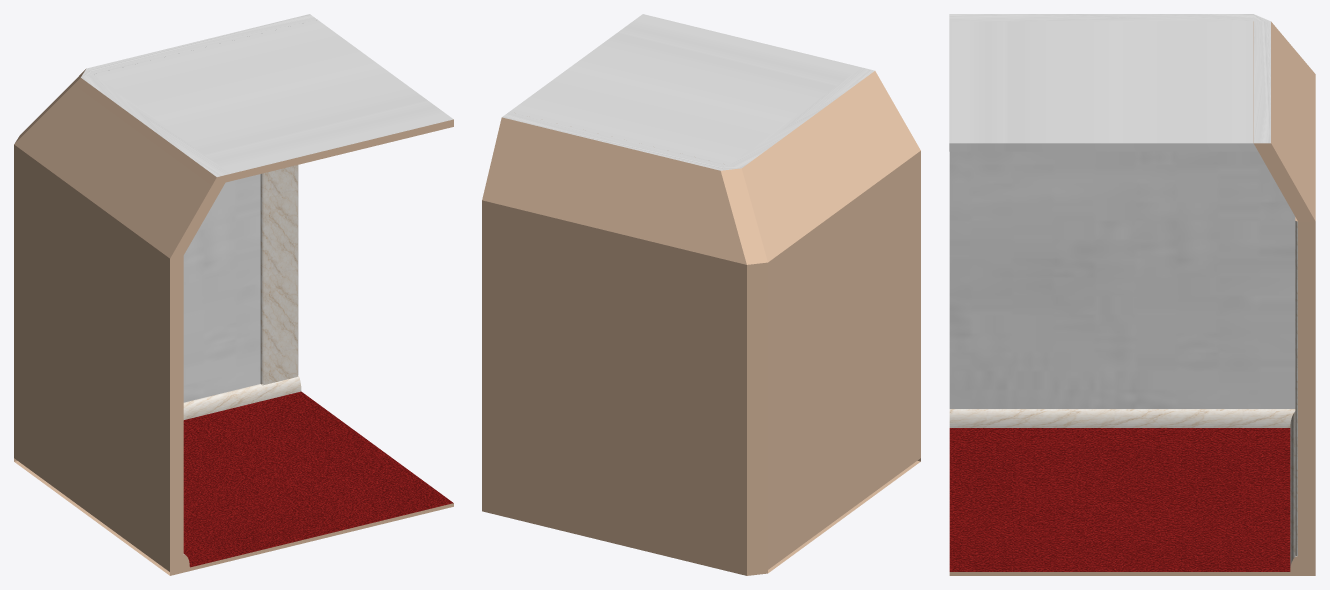
File: Esquina con columna.fbx
3 renders of one model, left to right at view 1: azimuth 30°, elevation 25°; view 2: azimuth 150°, elevation 25°; view 3: azimuth 270°, elevation 25°, orthographic. The views are drawn at different scales.
Parts seen in each view (by area): view 1: Pared y piso con columna esquina; view 2: Pared y piso con columna esquina; view 3: Pared y piso con columna esquina.
Boxes of the visible parts, x1,y1,x2,y2 form: Pared y piso con columna esquina: (14,14,453,575); Pared y piso con columna esquina: (482,14,920,575); Pared y piso con columna esquina: (949,14,1315,575).
Size of the model in its own units: 421 by 549 by 421.
4 materials, 3 textured.
